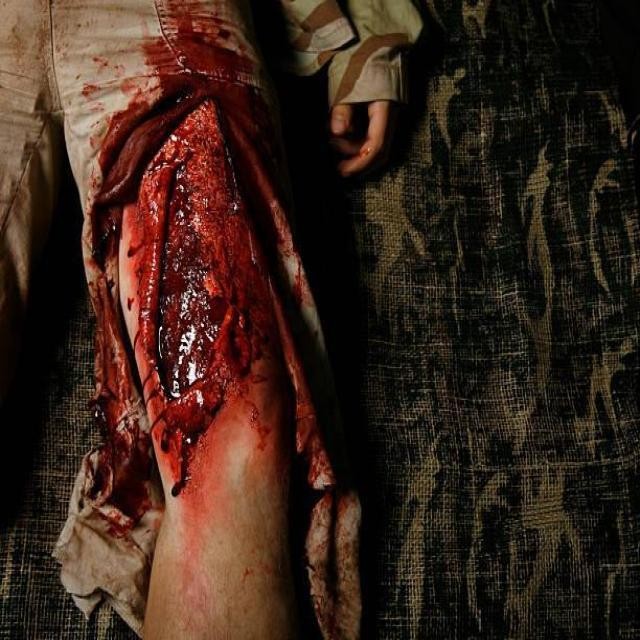flood: (87, 34, 319, 496)
